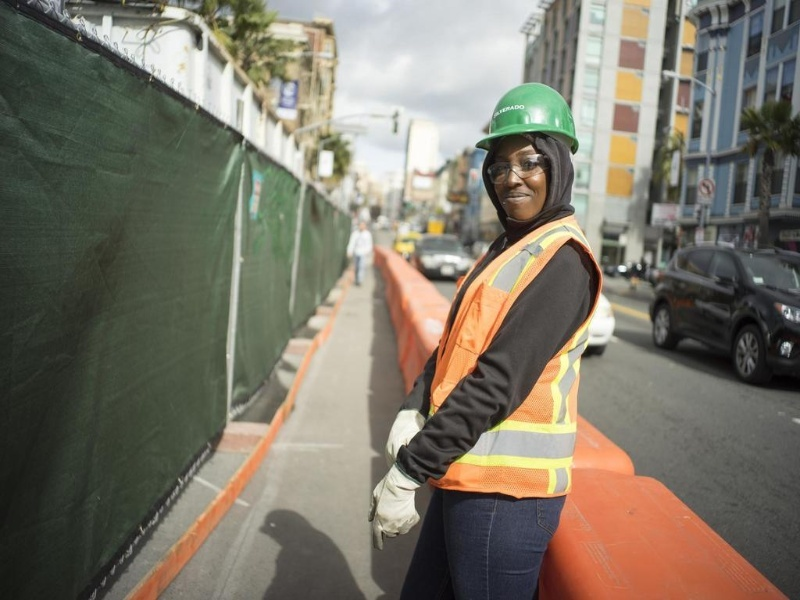Baret: (475, 83, 580, 155)
